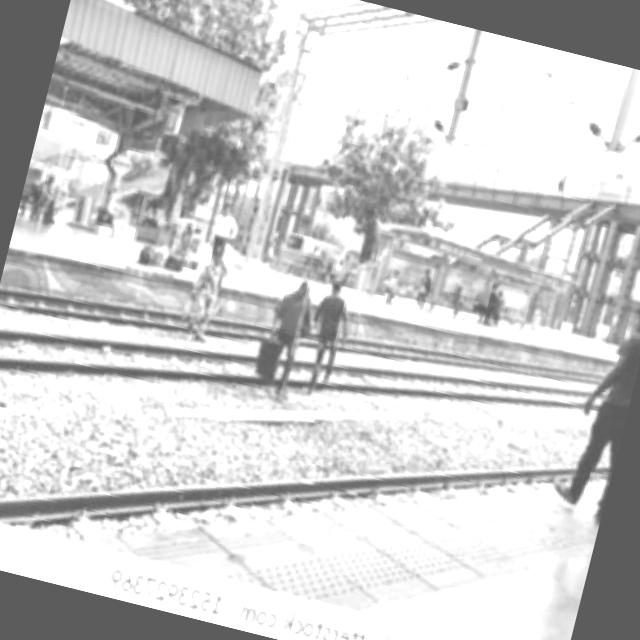Person: (248, 272, 322, 396), (298, 272, 358, 382), (178, 242, 235, 346)
